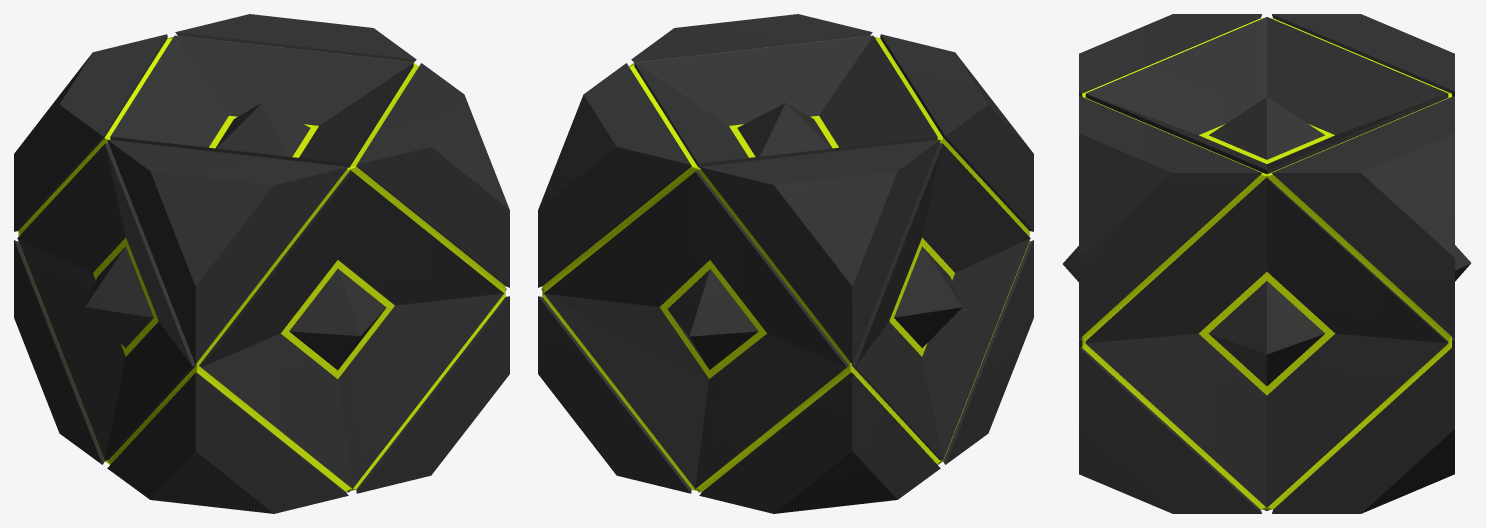
The model's file is Abstract_Shape_01.FBX.
The picture shows the model from 3 angles, left to right: view 1: azimuth 30°, elevation 25°; view 2: azimuth 150°, elevation 25°; view 3: azimuth 270°, elevation 25°; orthographic projection. The views are drawn at different scales.
Parts seen in each view (by area): view 1: Abstract_Shape_01; view 2: Abstract_Shape_01; view 3: Abstract_Shape_01.
Part boxes in pixels (box(x1,y1,x2,y2)): Abstract_Shape_01: box(14, 14, 509, 513); Abstract_Shape_01: box(538, 14, 1033, 513); Abstract_Shape_01: box(1063, 14, 1470, 513).
Size of the model in its own units: 4.53 by 4 by 4.35.
